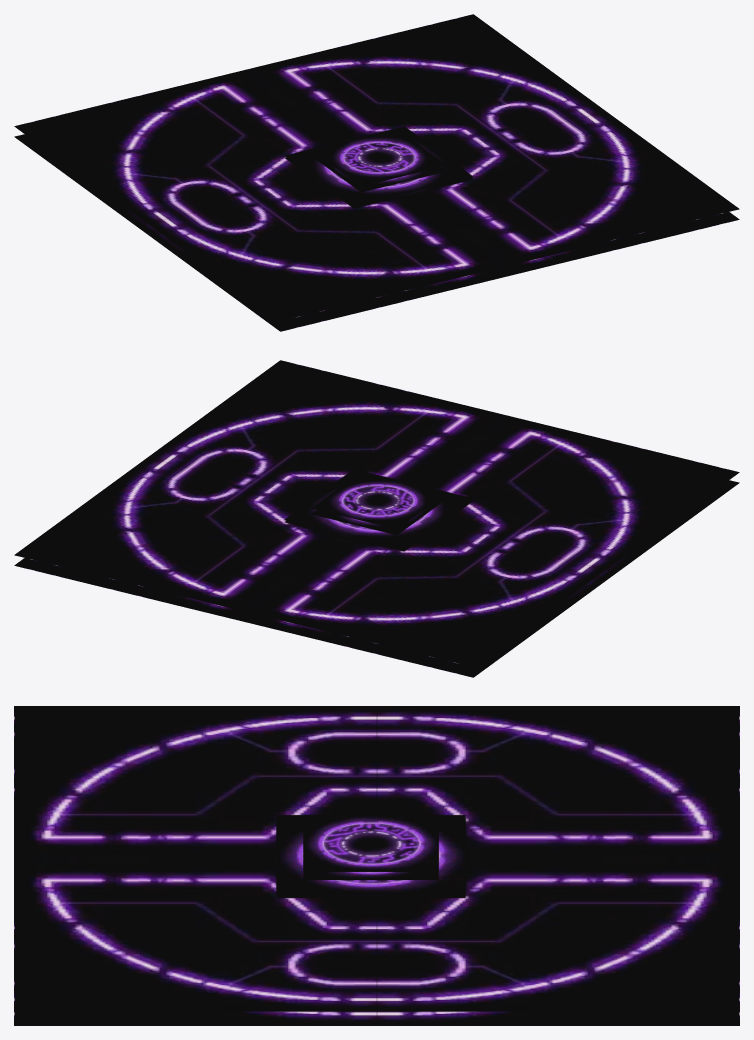
3 views of the same model, one above another, from view 1: azimuth 30°, elevation 25°; view 2: azimuth 150°, elevation 25°; view 3: azimuth 270°, elevation 25° (orthographic). The views are drawn at different scales.
Size of the model in its own units: 5.58 by 0.254 by 5.6.
3 materials, 3 textured.
